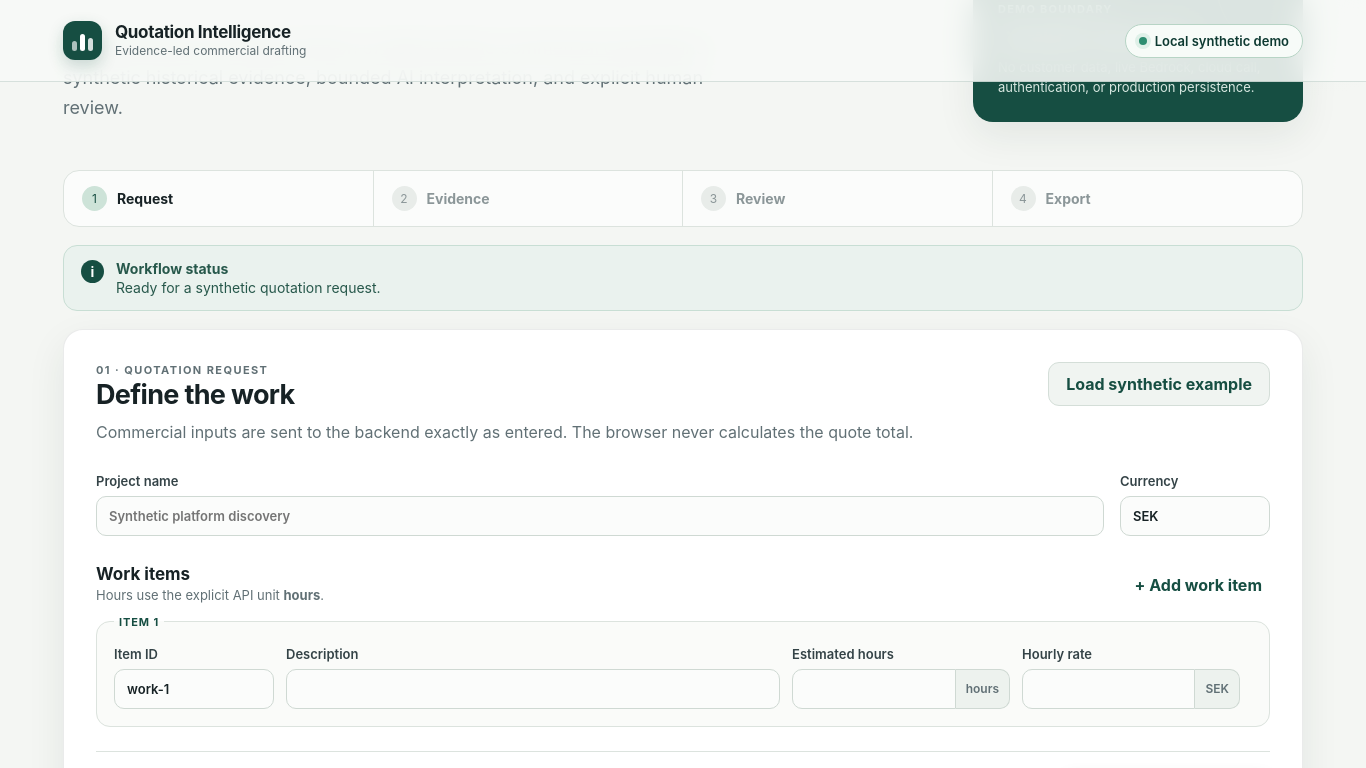
C20 quotation workflow › shows honest empty evidence states
(page scrolled)
Click the button "Load synthetic example": x=1159, y=384 1048,362 -> 1270,406
(page scrolled)
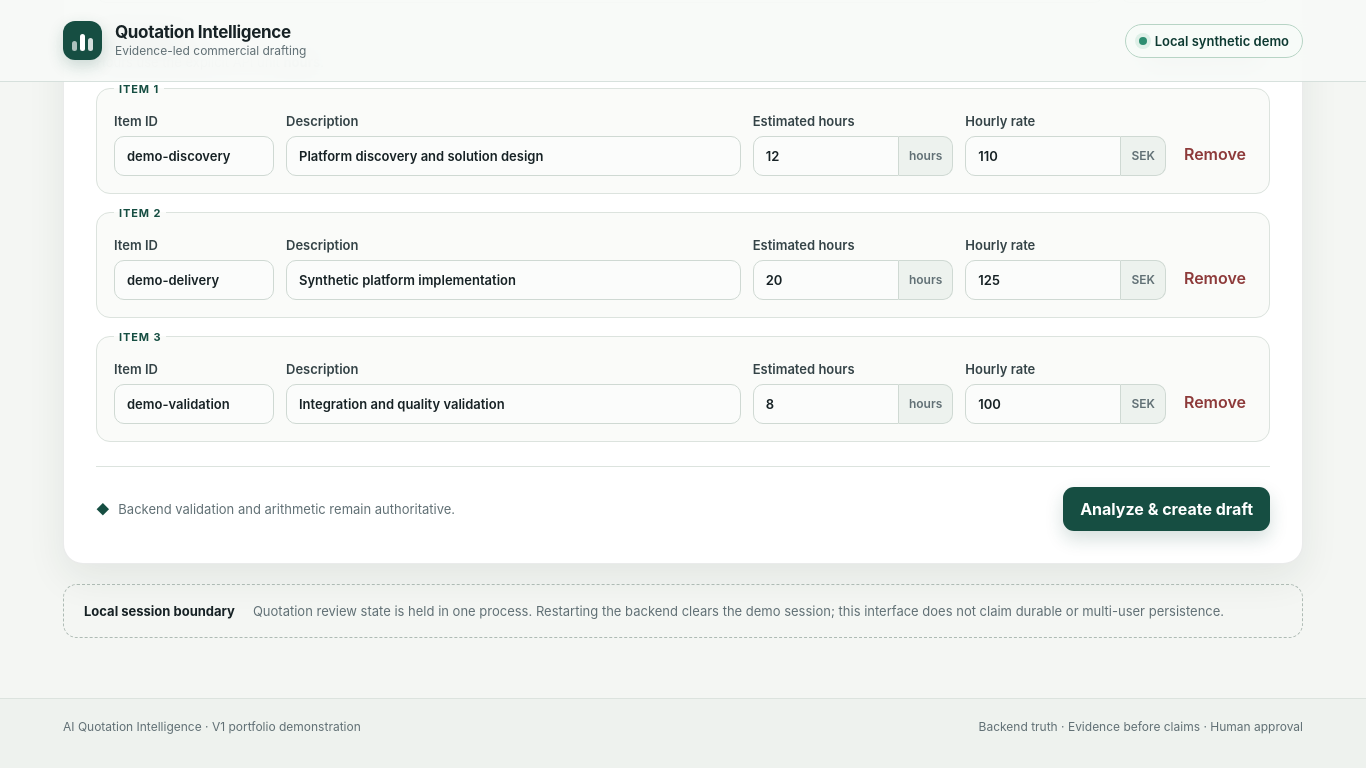
Click the button "Analyze & create draft": x=1167, y=509 1063,487 -> 1270,531
(page scrolled)
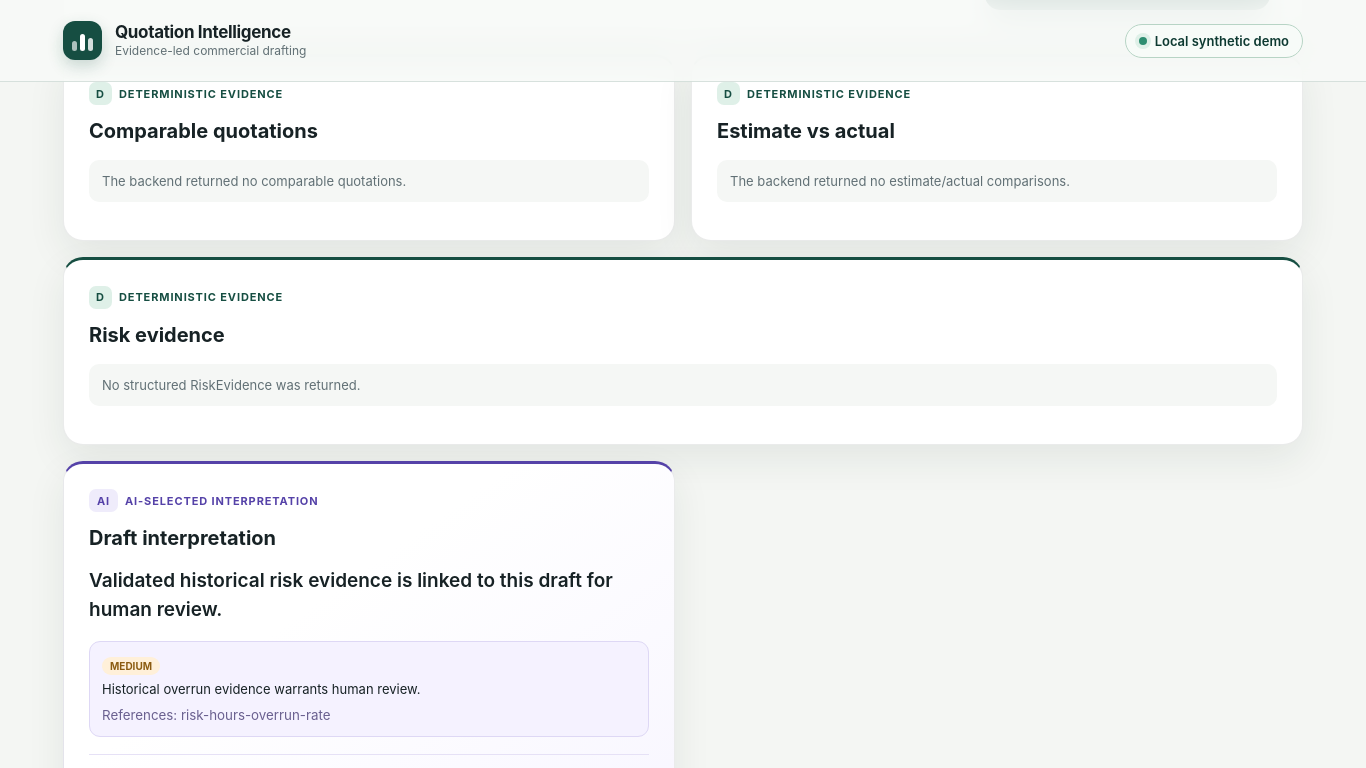
Check: the text "The backend returned no comparable quotations." is shown, box 89,160 -> 649,202
Check: the text "The backend returned no estimate/actual comparisons." is shown, box 717,160 -> 1277,202
Check: the text "No structured RiskEvidence was returned." is shown, box 89,364 -> 1277,406
